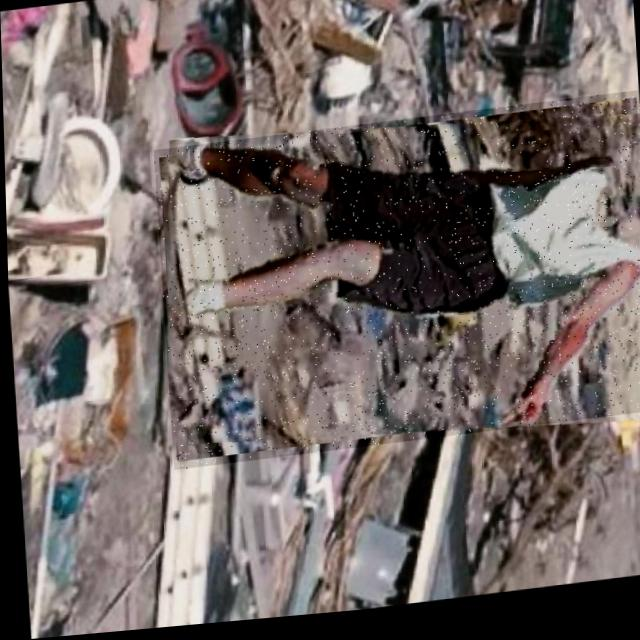Person in Rubble: (150, 101, 640, 474)
